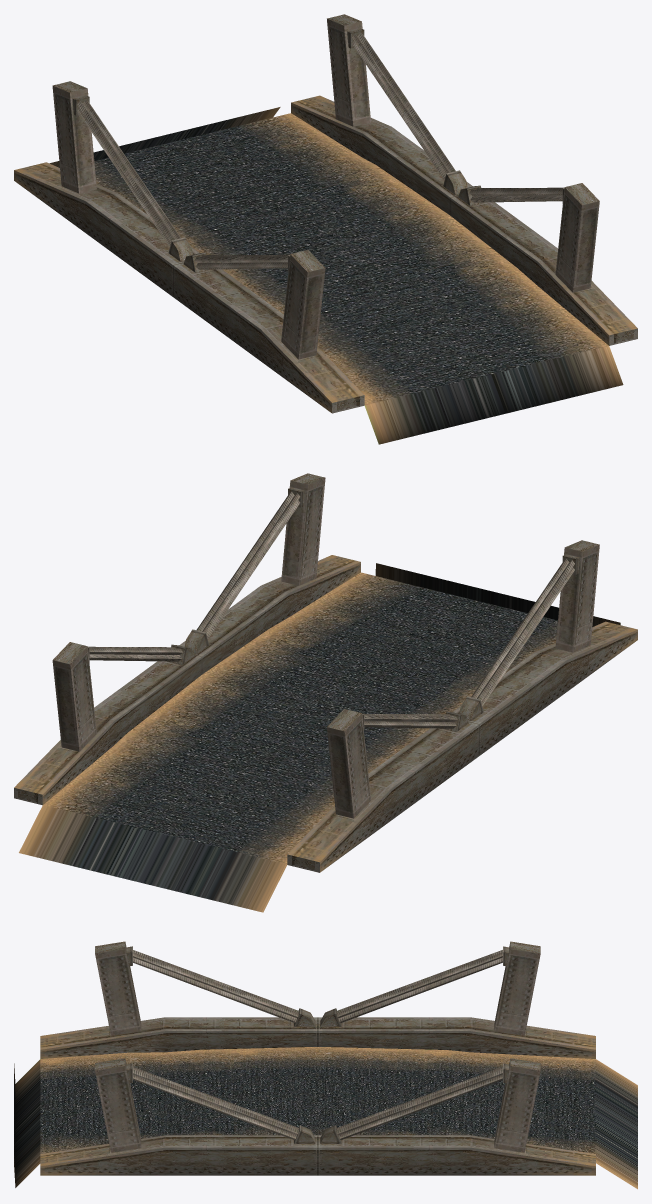
Rendered from Mis1_Zone1_Bridge.glb.
The picture shows the model from 3 angles, top to bottom: view 1: azimuth 30°, elevation 25°; view 2: azimuth 150°, elevation 25°; view 3: azimuth 270°, elevation 25°; orthographic projection. The views are drawn at different scales.
Parts seen in each view (by area): view 1: MIS1_ZONE1_BRIDGE; view 2: MIS1_ZONE1_BRIDGE; view 3: MIS1_ZONE1_BRIDGE.
Boxes of the visible parts, x1,y1,x2,y2 form: MIS1_ZONE1_BRIDGE: [14, 14, 637, 444]; MIS1_ZONE1_BRIDGE: [14, 473, 637, 912]; MIS1_ZONE1_BRIDGE: [14, 941, 637, 1189].
Bounding box in the file's own units: 10 × 4.76 × 20.24.
10 materials, 10 textured.
